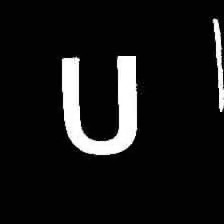LTR_U: (55, 49, 141, 159)
